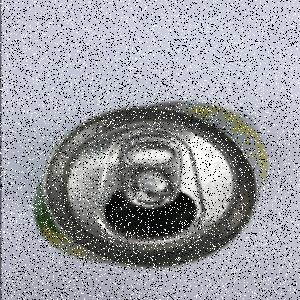Can: (34, 100, 270, 270)
